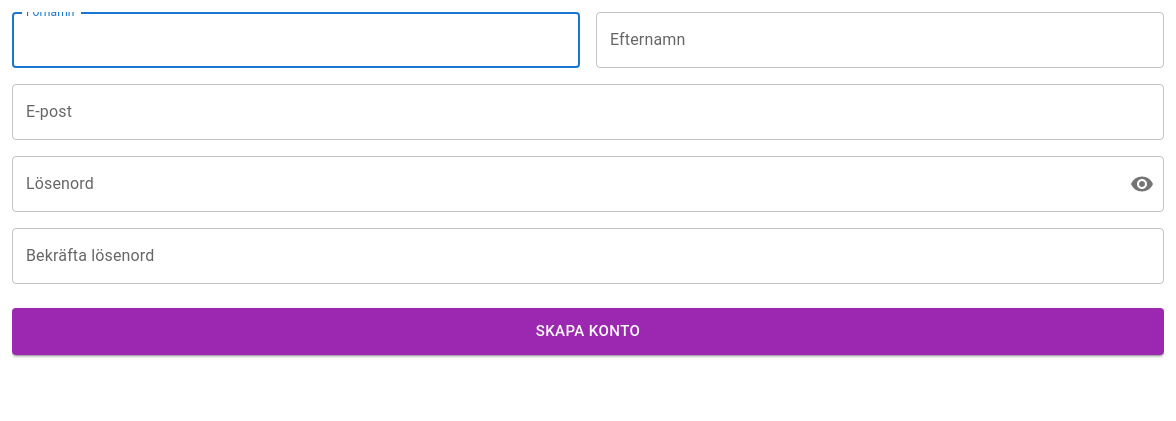
Test: RegisterForm › should show validation error for invalid email
This screenshot has width=1176, height=421.
Type "invalid-email" into the field labelled "E-post".
click(588, 112); type("invalid-email")  # box [12,84,1164,140]
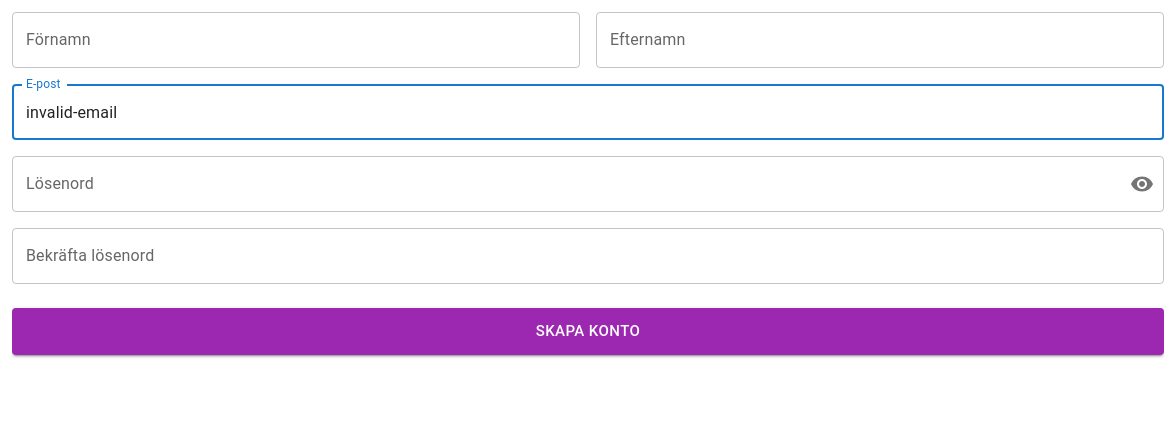
Click the button "Skapa konto".
click(588, 332)  # box [12,308,1164,355]
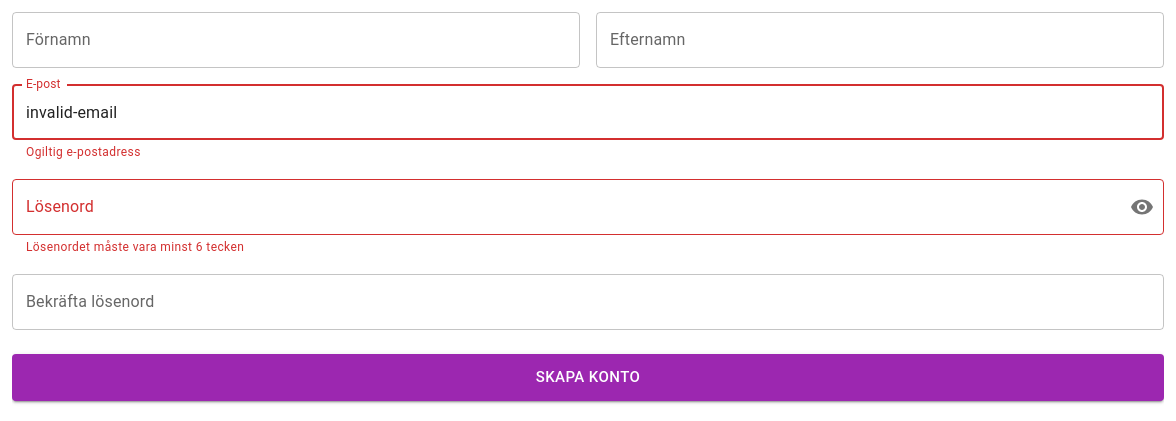
Now the text "Ogiltig e-postadress" is shown, box [26,145,141,159]
